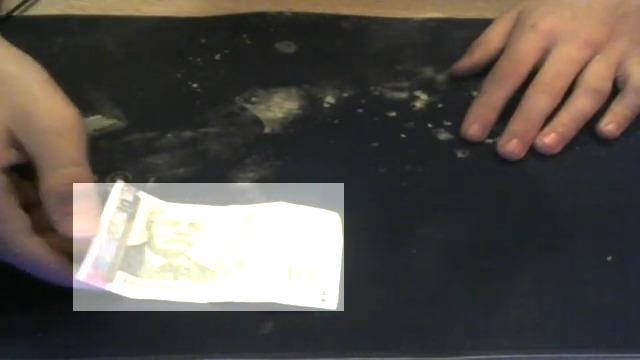10leva: (73, 183, 344, 311)
